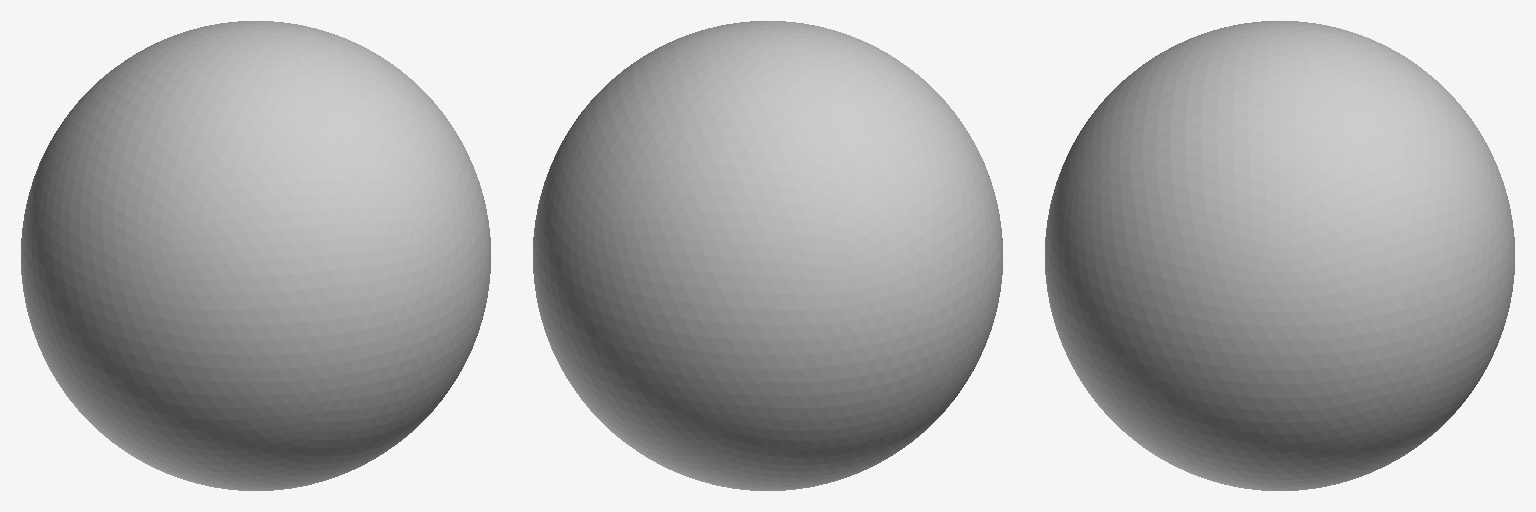
The model's file is sun.obj.
The picture shows the model from 3 angles: view 1: azimuth 30°, elevation 25°; view 2: azimuth 150°, elevation 25°; view 3: azimuth 270°, elevation 25°; orthographic projection.
Visible parts, largest first — view 1: Icosphere; view 2: Icosphere; view 3: Icosphere.
Part boxes in pixels (left/top/right/bottom): Icosphere: left=21, top=21, right=490, bottom=490; Icosphere: left=533, top=21, right=1002, bottom=490; Icosphere: left=1045, top=21, right=1514, bottom=490.
Size of the model in its own units: 2 by 2 by 2.